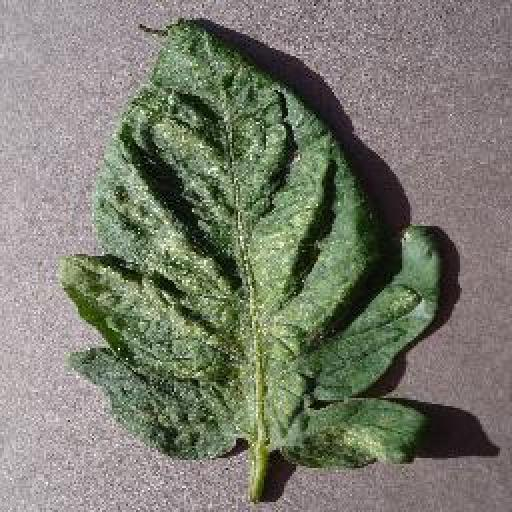Spider Mites: (64, 20, 441, 467)
